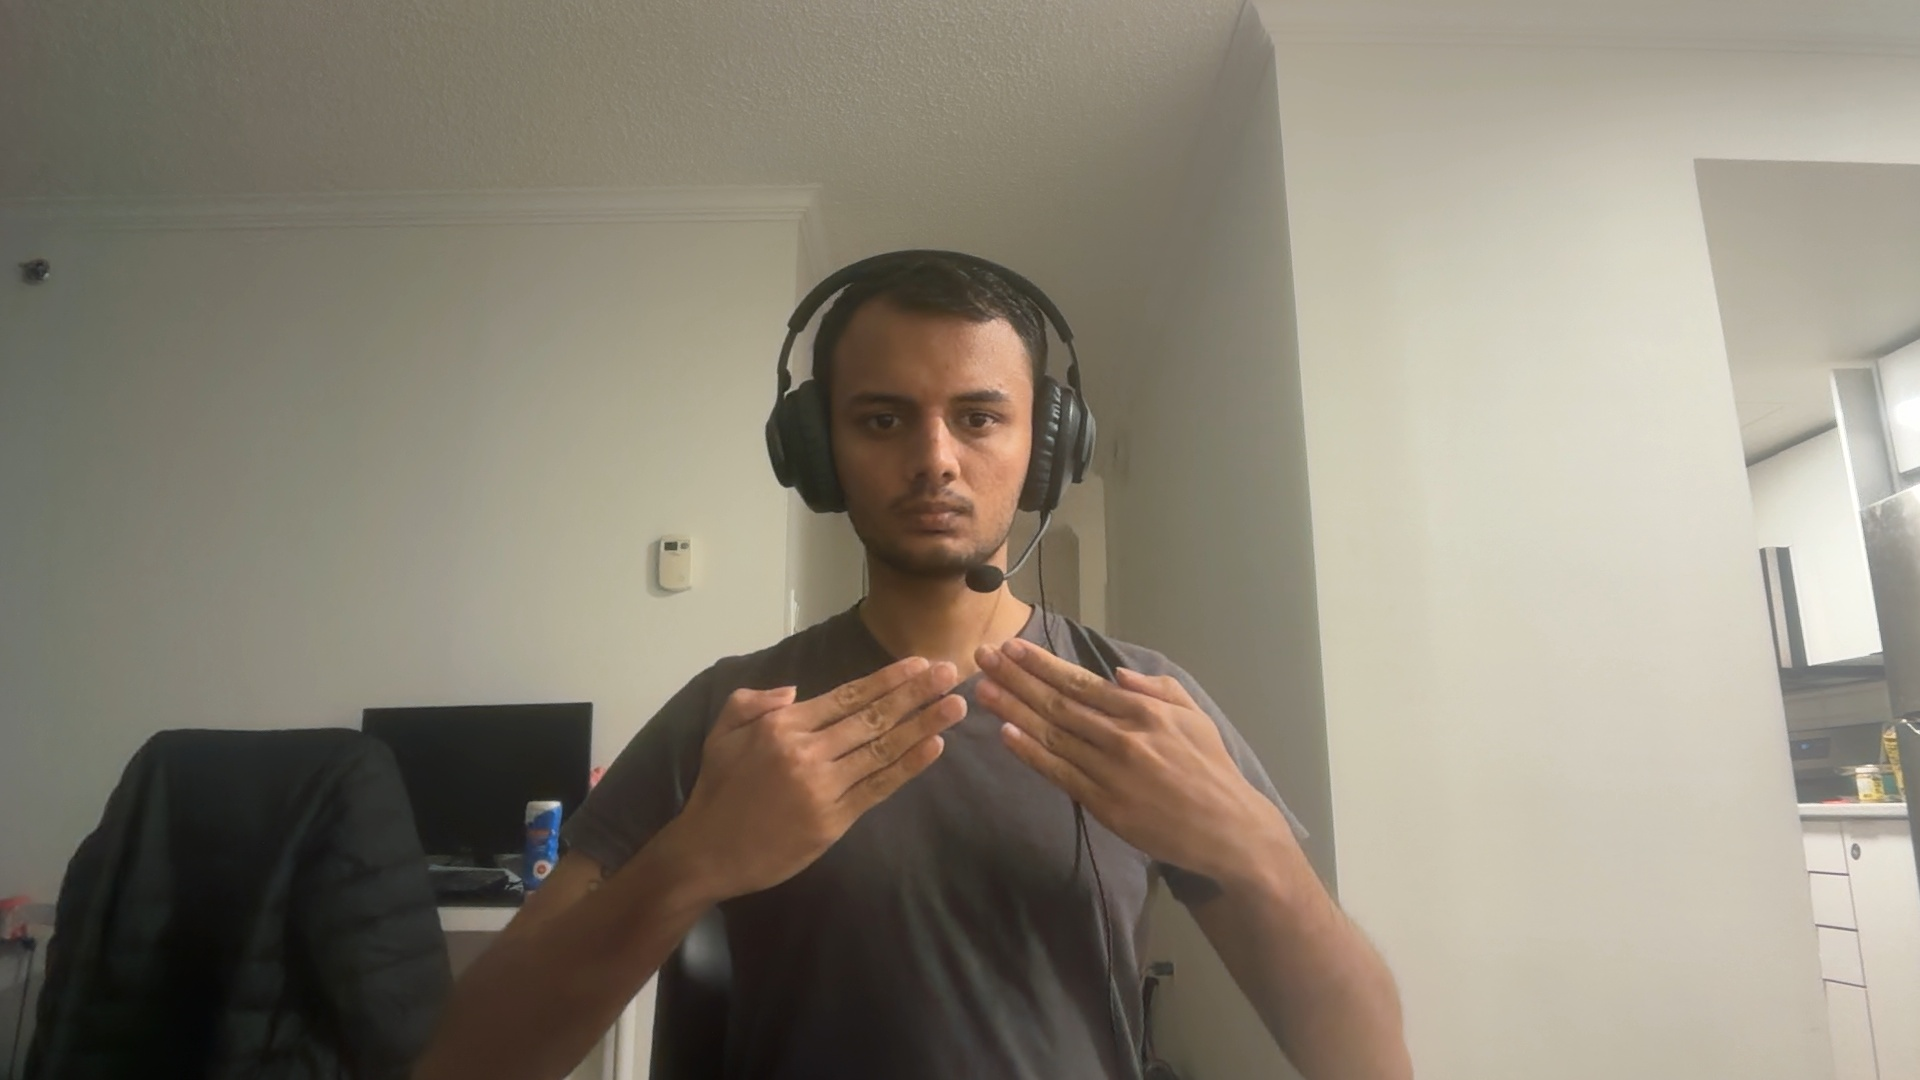thankyou: (684, 636, 1276, 906)
